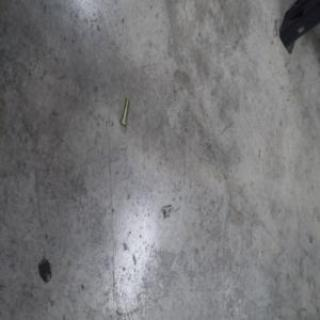Bolttrack_idkeyframe: (118, 96, 129, 128)
